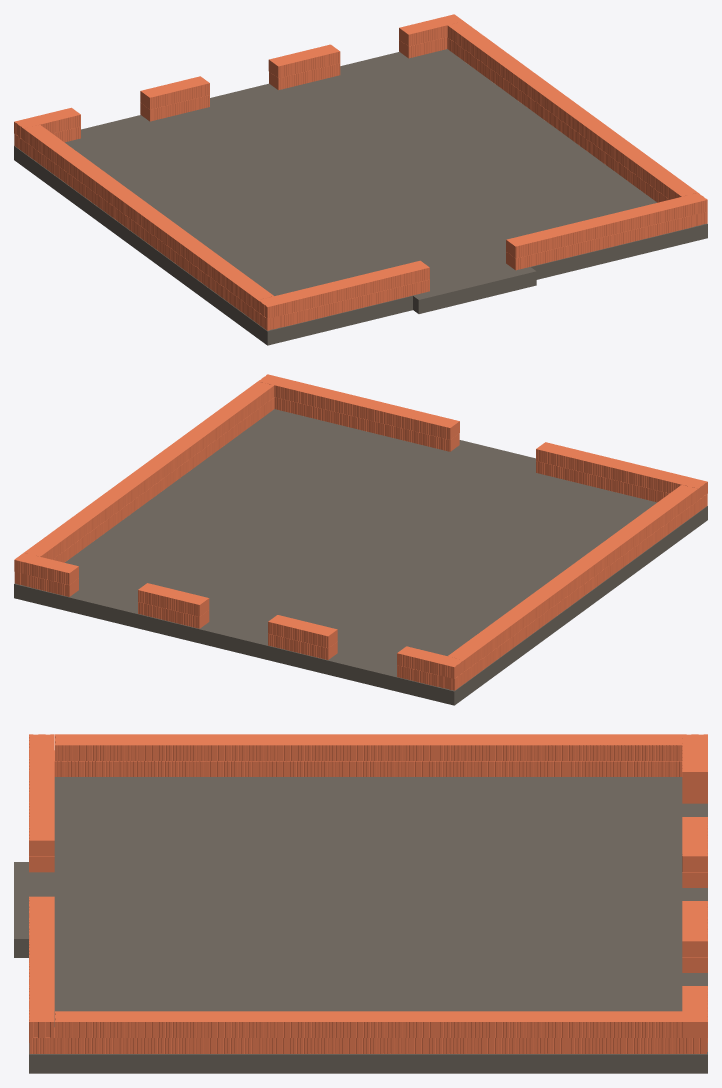
The model's file is Brick test 4.fbx.
The picture shows the model from 3 angles, top to bottom: view 1: azimuth 30°, elevation 25°; view 2: azimuth 150°, elevation 25°; view 3: azimuth 270°, elevation 25°; orthographic projection. The views are drawn at different scales.
Parts seen in each view (by area): view 1: Bodenplatte; view 2: Bodenplatte; view 3: Bodenplatte.
Part boxes in pixels (box(x1,y1,x2,y2)): Bodenplatte: box(14, 14, 707, 345); Bodenplatte: box(14, 374, 707, 705); Bodenplatte: box(14, 734, 707, 1073).
Size of the model in its own units: 973 by 81.06 by 992.
